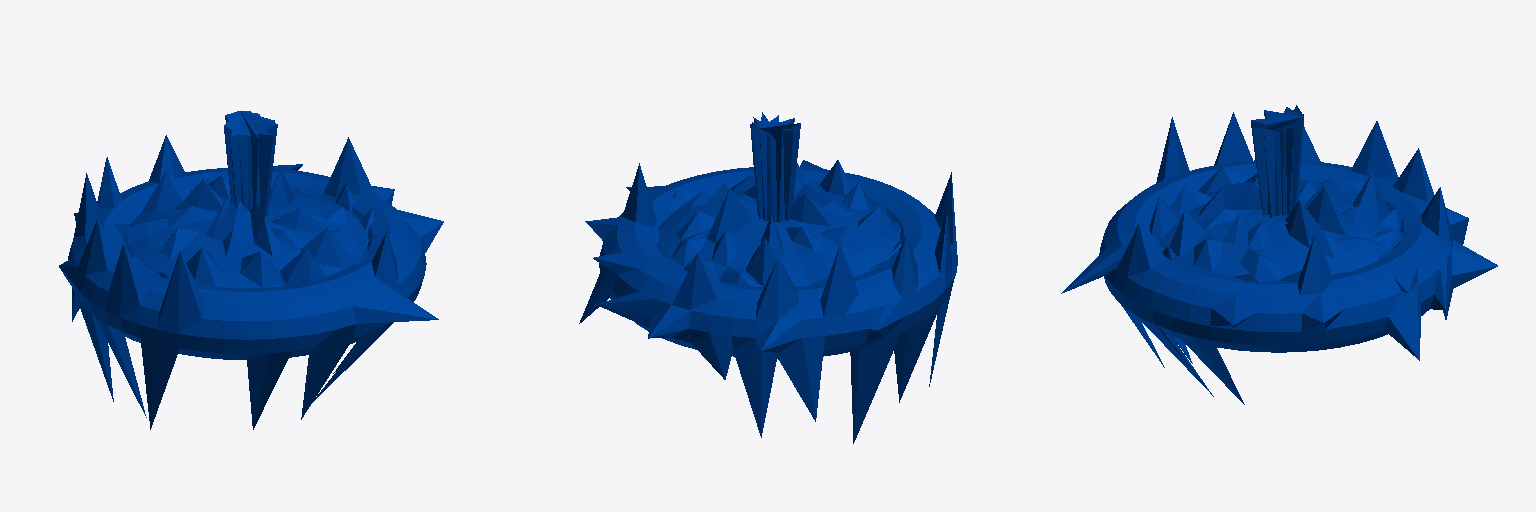
Rendered from lvl_5.obj.
3 renders of one model, left to right at view 1: azimuth 30°, elevation 25°; view 2: azimuth 150°, elevation 25°; view 3: azimuth 270°, elevation 25°, orthographic.
Visible parts, largest first — view 1: Torus.001, Sphere.001, Cylinder.001; view 2: Torus.001, Sphere.001, Cylinder.001; view 3: Torus.001, Sphere.001, Cylinder.001.
Boxes of the visible parts, x1=… form: Torus.001: x1=59, y1=135, x2=443, y2=429; Sphere.001: x1=113, y1=168, x2=374, y2=288; Cylinder.001: x1=224, y1=111, x2=277, y2=218; Torus.001: x1=579, y1=160, x2=957, y2=443; Sphere.001: x1=652, y1=160, x2=910, y2=286; Cylinder.001: x1=750, y1=112, x2=800, y2=222; Torus.001: x1=1061, y1=112, x2=1497, y2=404; Sphere.001: x1=1149, y1=166, x2=1402, y2=281; Cylinder.001: x1=1251, y1=105, x2=1303, y2=217.
Bounding box in the file's own units: 2.66 × 2.15 × 3.05.